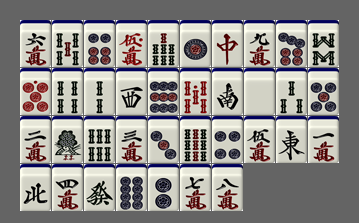0m: (116, 20, 147, 67)
0p: (20, 68, 51, 115)
0s: (180, 68, 211, 115)
1m: (308, 116, 339, 163)
1p: (180, 20, 211, 67)
1s: (52, 116, 83, 163)
1z: (276, 116, 307, 163)
2m: (20, 116, 51, 163)
2p: (148, 164, 179, 211)
2s: (84, 68, 115, 115)
2z: (212, 68, 243, 115)
3m: (116, 116, 147, 163)
3p: (148, 116, 179, 163)
3s: (276, 68, 307, 115)
3z: (116, 68, 147, 115)
4m: (52, 164, 83, 211)
4p: (212, 116, 243, 163)
4s: (52, 68, 83, 115)
4z: (20, 164, 51, 211)
5m: (244, 116, 275, 163)
5p: (308, 68, 339, 115)
5s: (52, 20, 83, 67)
5z: (244, 68, 275, 115)
6m: (20, 20, 51, 67)
6p: (84, 20, 115, 67)
6s: (84, 116, 115, 163)
6z: (84, 164, 115, 211)
7m: (180, 164, 211, 211)
7p: (276, 20, 307, 67)
7s: (148, 20, 179, 67)
7z: (212, 20, 243, 67)
8m: (212, 164, 243, 211)
8p: (116, 164, 147, 211)
8s: (308, 20, 339, 67)
9m: (244, 20, 275, 67)
9p: (148, 68, 179, 115)
9s: (180, 116, 211, 163)
